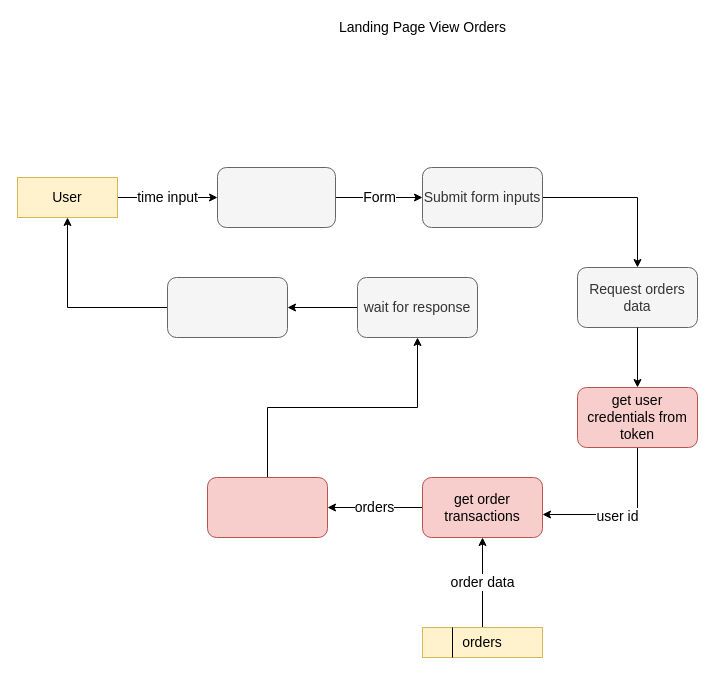
Some shapes in this 715 by 676 pixel diagram are drawn without their labels. The shapes that lost their labels are listed below. From the top down, each one's box as (x1, y1, x2, y2) in pixels, then its label:
(216, 166, 336, 228): Prompt user for time and date
(166, 276, 288, 338): display orders data
(206, 476, 328, 538): send response
